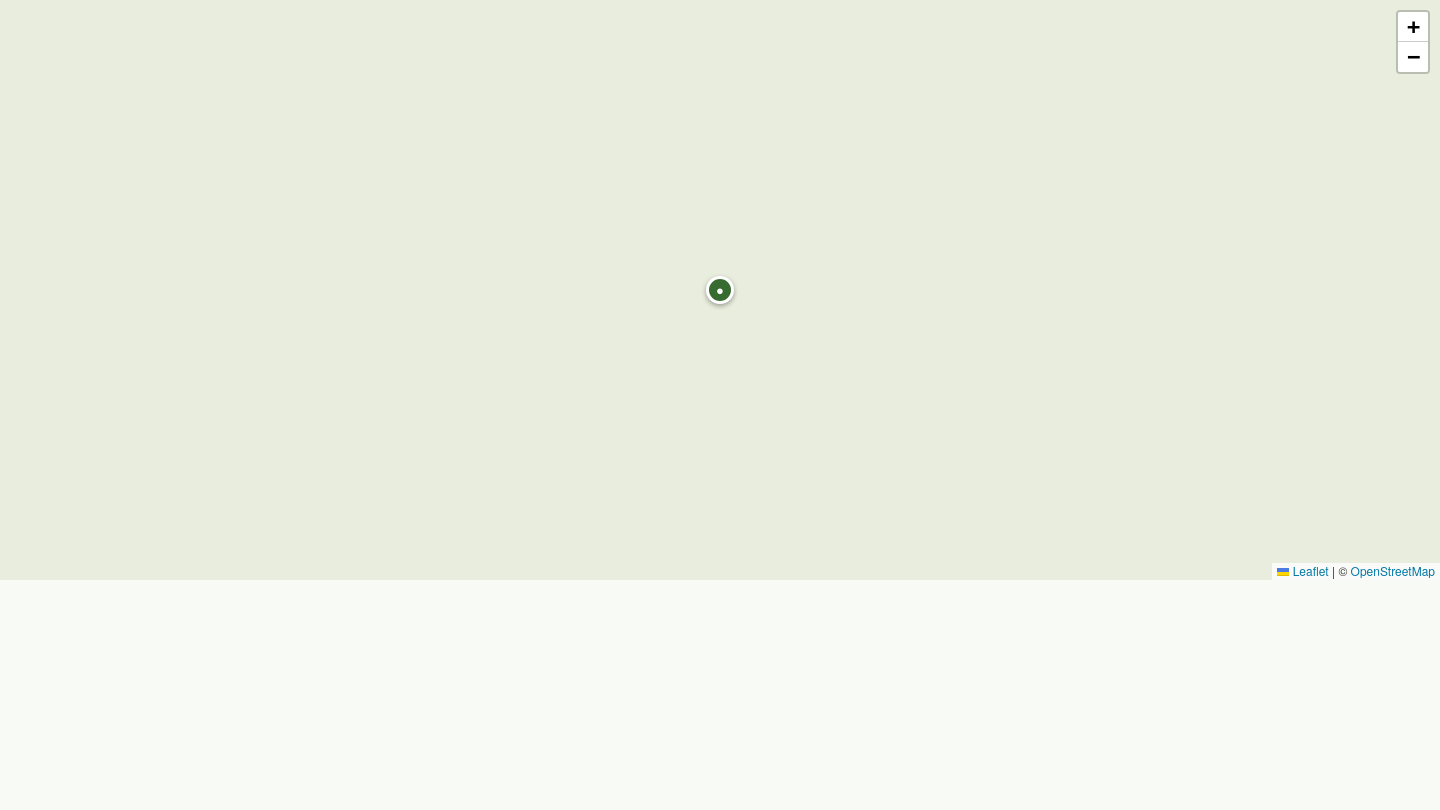
Test case: mapa com Leaflet › cria marcadores para regiões válidas, com fichas corretas e texto seguro no popup
Click the button with class "region-marker": click(720, 290) [706, 276, 734, 304]
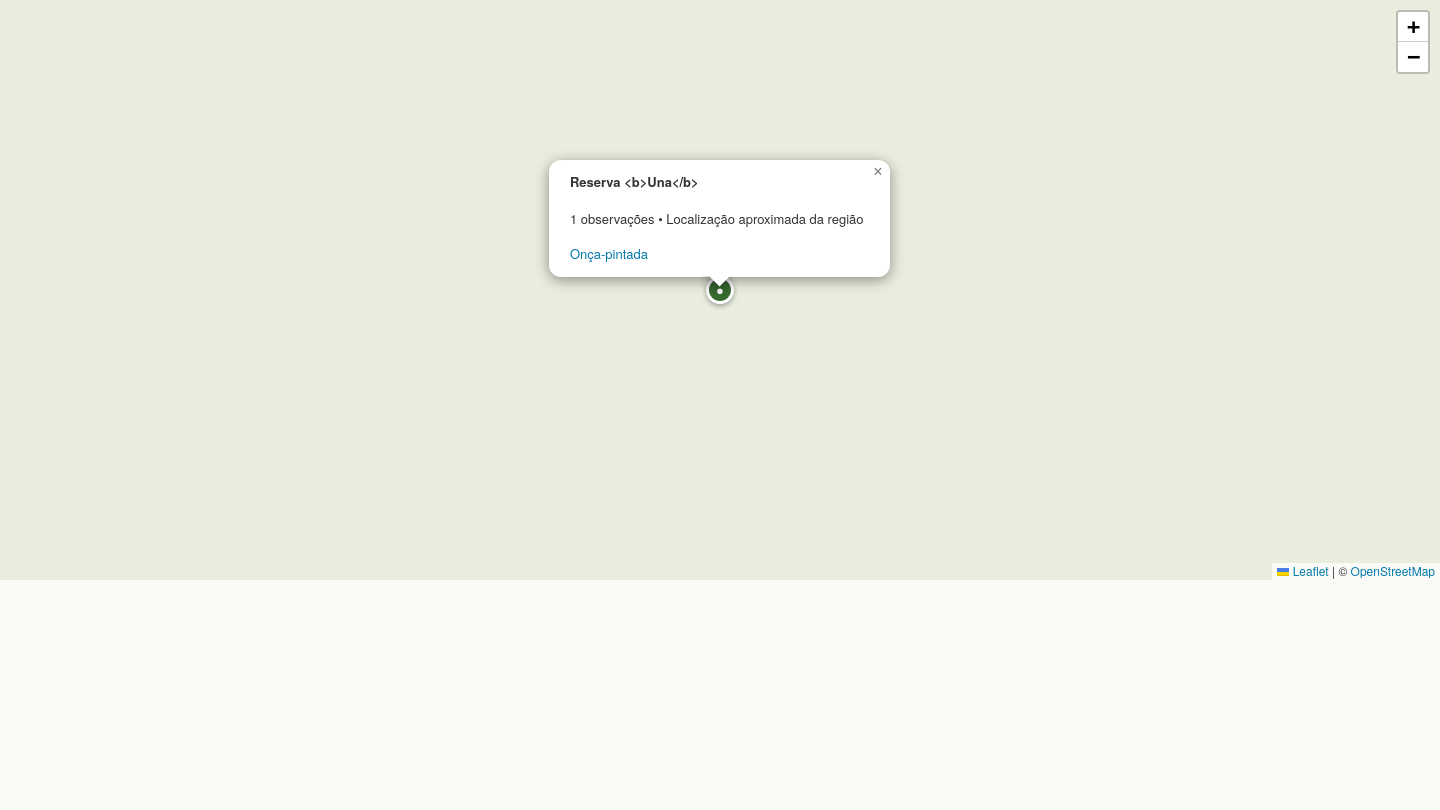
Expected: the text "Reserva <b>Una</b>" is shown, [570, 172, 699, 191]
Expected: the text "1 observações • Localização aproximada da região" is shown, [570, 208, 865, 229]
